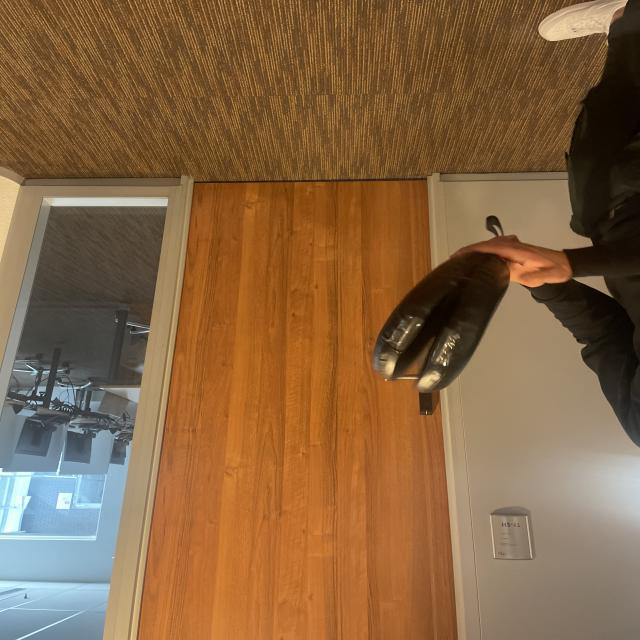paddle: (378, 254, 506, 393)
